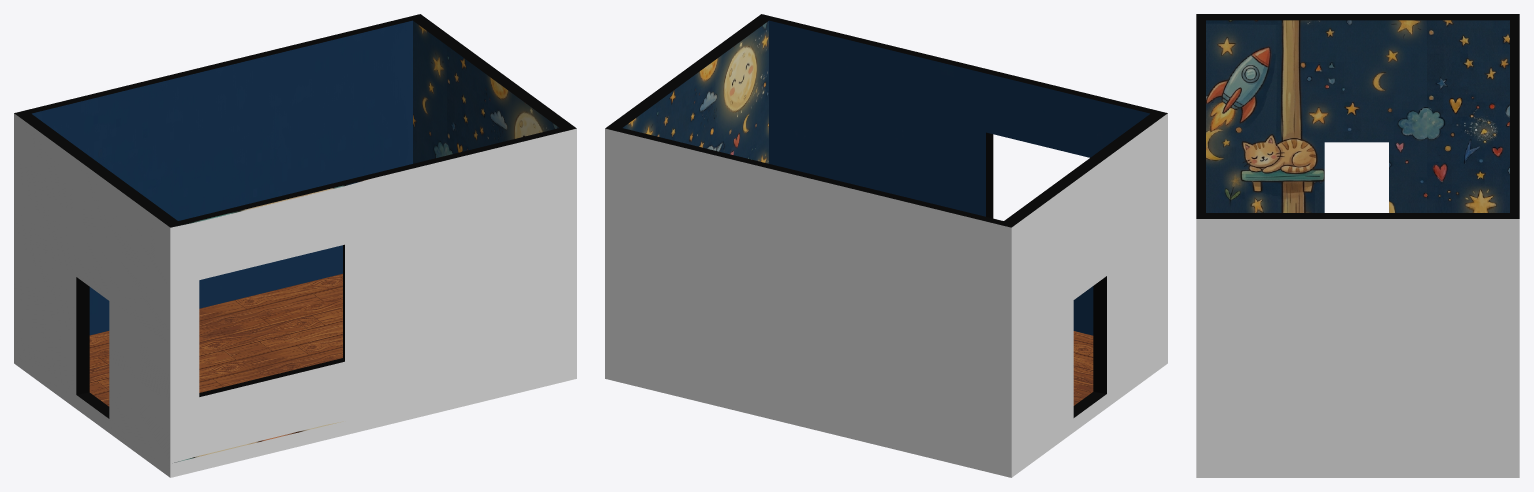
File: Casa_con_textura.fbx
The picture shows the model from 3 angles, left to right: view 1: azimuth 30°, elevation 25°; view 2: azimuth 150°, elevation 25°; view 3: azimuth 270°, elevation 25°; orthographic projection. The views are drawn at different scales.
Visible parts, largest first — view 1: Casa; view 2: Casa; view 3: Casa.
Part boxes in pixels (x1,y1,x2,y2): Casa: (14,14,576,477); Casa: (605,14,1167,477); Casa: (1196,14,1519,477).
Bounding box in the file's own units: 300 × 176 × 200.
Materials: 5 (3 with a texture image).
